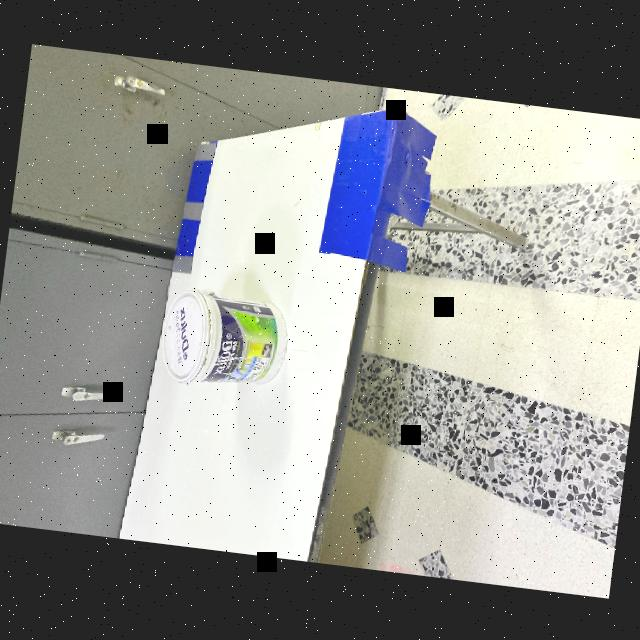paint_bucket: (150, 283, 296, 406)
